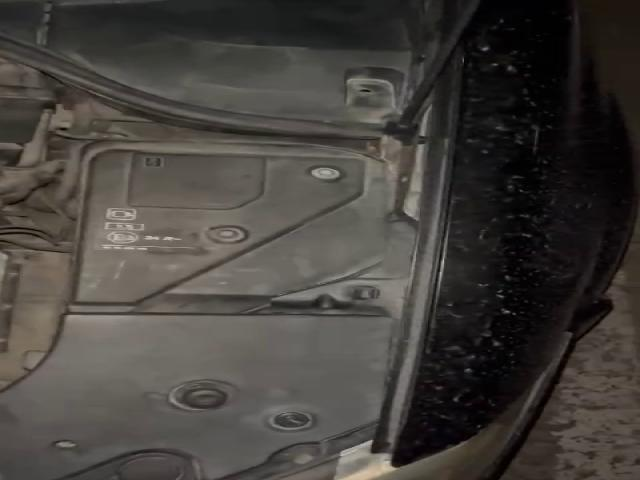fuse_box: (62, 142, 386, 314)
